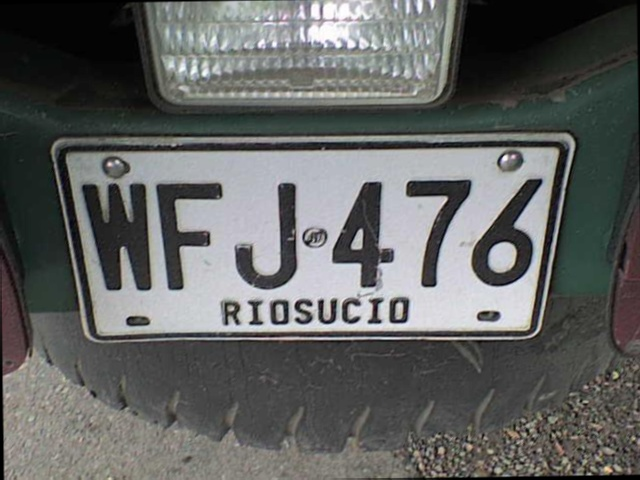placas: (46, 125, 580, 351)
